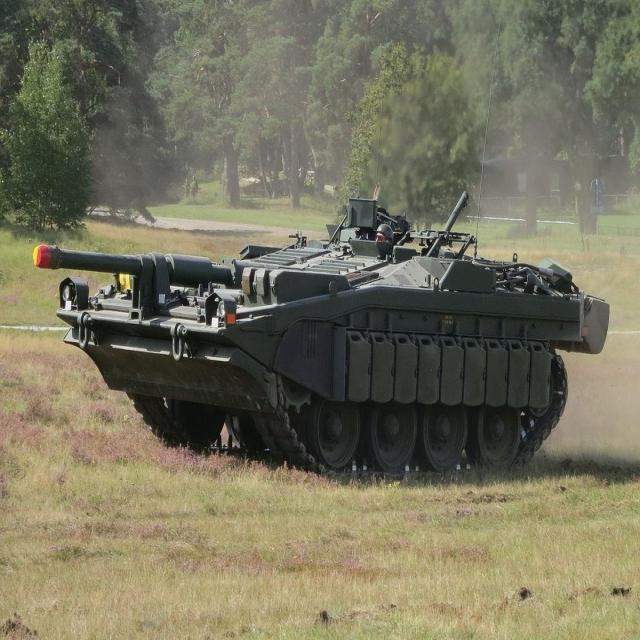MIL_MBT: (44, 180, 606, 501)
